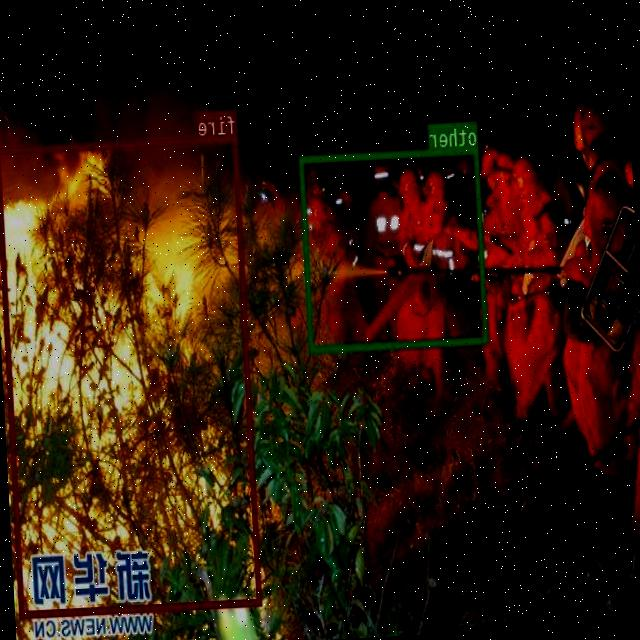fire: (0, 134, 263, 617)
